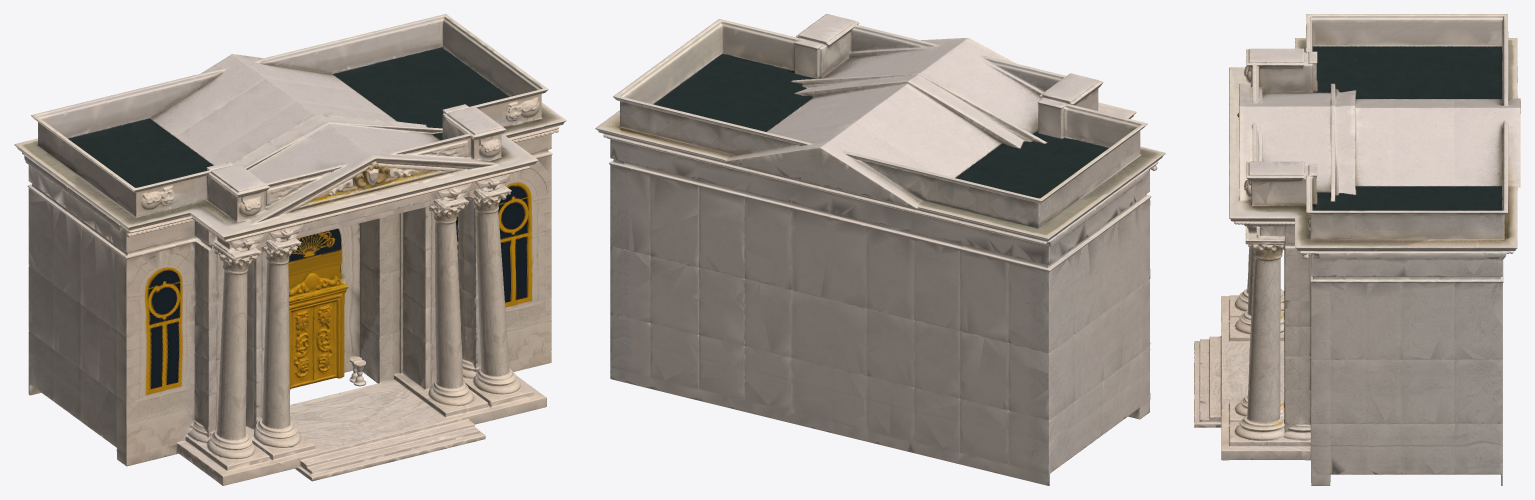
The model's file is AnchorageBank_300k.glb.
3 views of the same model, side by side, from view 1: azimuth 30°, elevation 25°; view 2: azimuth 150°, elevation 25°; view 3: azimuth 270°, elevation 25° (orthographic). The views are drawn at different scales.
Parts seen in each view (by area): view 1: mesh_node; view 2: mesh_node; view 3: mesh_node.
Boxes of the visible parts, bbox=[...] form: mesh_node: bbox=[14, 14, 566, 485]; mesh_node: bbox=[595, 14, 1165, 485]; mesh_node: bbox=[1194, 14, 1520, 485].
Size of the model in its own units: 1.9 by 1.18 by 1.25.
1 material, 1 textured.
